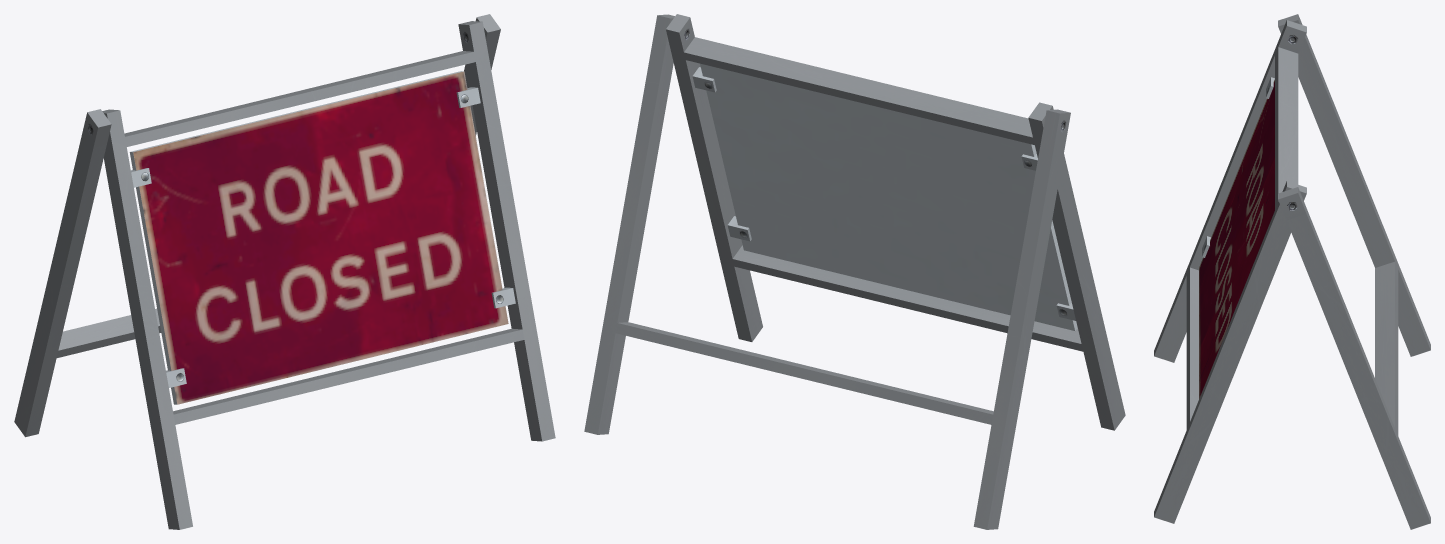
The model's file is StreetSigns_10.fbx.
The picture shows the model from 3 angles, left to right: view 1: azimuth 30°, elevation 25°; view 2: azimuth 150°, elevation 25°; view 3: azimuth 270°, elevation 25°; orthographic projection. The views are drawn at different scales.
Visible parts, largest first — view 1: StreetSigns_10; view 2: StreetSigns_10; view 3: StreetSigns_10.
Part boxes in pixels (box(x1,y1,x2,y2)): StreetSigns_10: box(14, 14, 555, 529); StreetSigns_10: box(584, 14, 1125, 529); StreetSigns_10: box(1154, 14, 1430, 529).
Bounding box in the file's own units: 1.26 × 1.11 × 0.8231.
